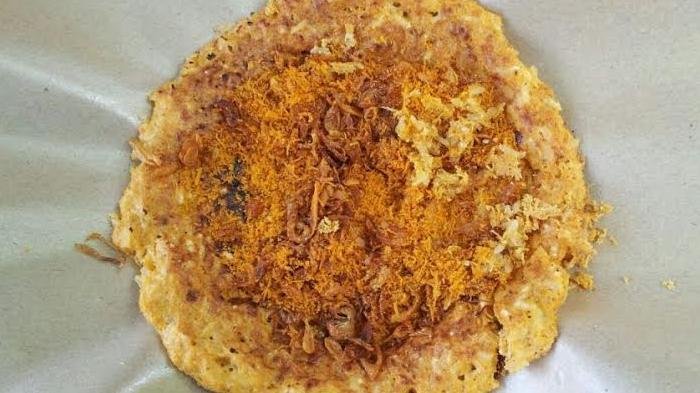kerak_telor: (118, 2, 593, 393)
